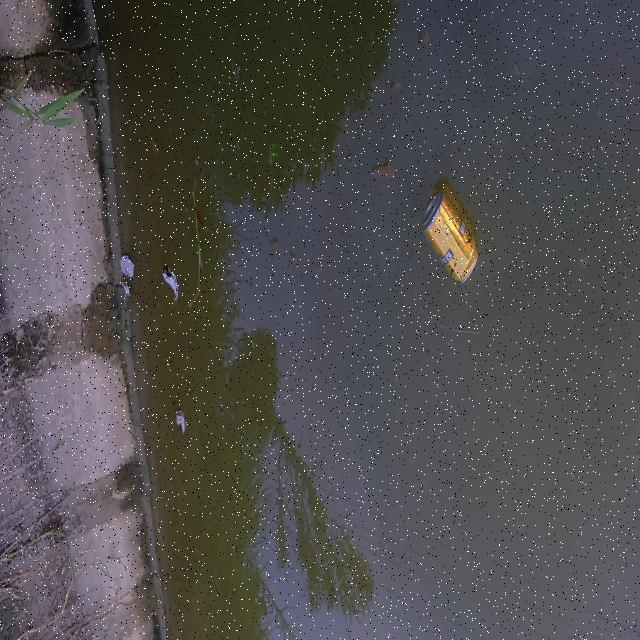Can: (421, 187, 483, 286)
